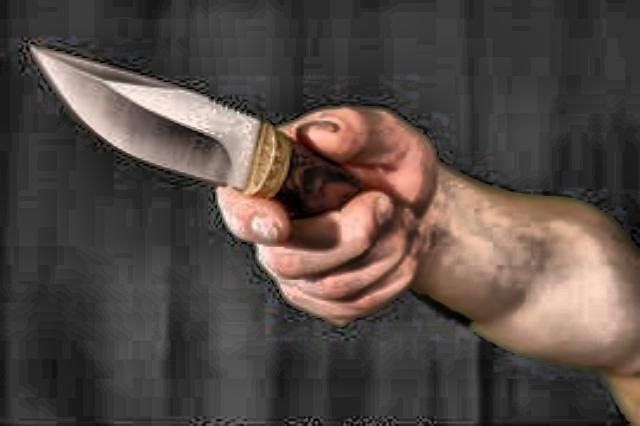knife: (19, 33, 400, 322)
